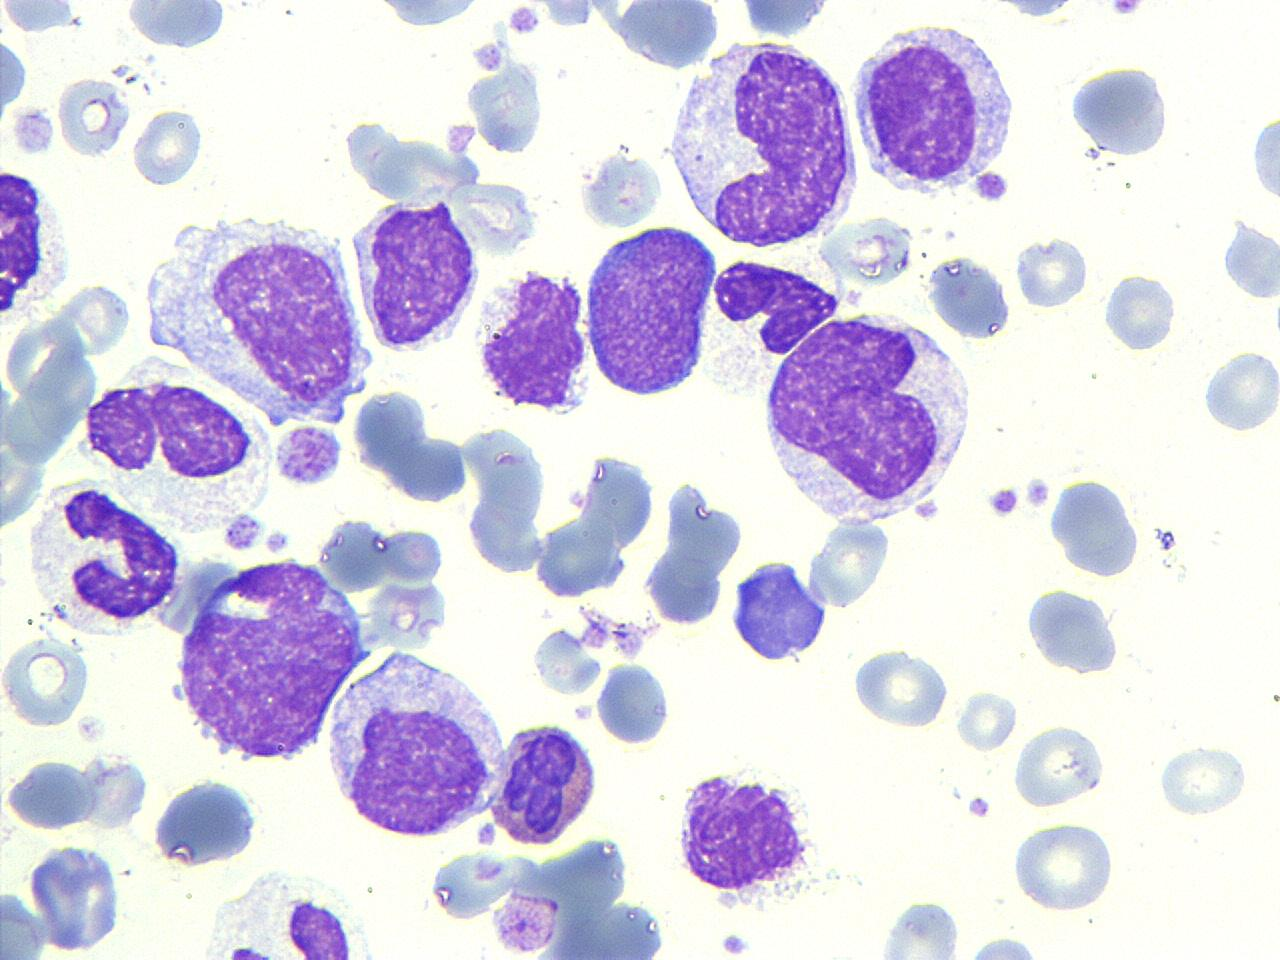Platelets: (1220, 219, 1280, 303), (954, 687, 1018, 752), (1248, 108, 1280, 206), (0, 41, 29, 134), (7, 105, 58, 154), (536, 0, 598, 28), (223, 510, 264, 552), (972, 168, 1011, 204), (984, 485, 1022, 518), (504, 4, 542, 37), (472, 39, 505, 72), (1024, 475, 1052, 510), (718, 930, 751, 958), (263, 528, 292, 556), (1106, 1, 1146, 19), (914, 497, 942, 522), (964, 793, 990, 819), (1156, 528, 1178, 552), (167, 681, 186, 705), (494, 28, 512, 48), (1083, 145, 1101, 162), (110, 65, 130, 79)
RBC: (351, 383, 470, 506), (1008, 818, 1118, 914), (849, 643, 953, 734), (802, 514, 894, 612), (0, 634, 92, 731), (1011, 720, 1107, 808), (1153, 741, 1249, 820), (819, 212, 916, 290), (3, 312, 84, 404), (430, 844, 516, 926), (578, 148, 664, 229), (129, 105, 206, 189), (54, 75, 129, 159), (78, 748, 150, 832), (490, 882, 564, 958), (271, 423, 349, 489), (953, 687, 1017, 754), (0, 886, 50, 958)
WBC: (143, 207, 372, 429), (761, 302, 979, 526), (664, 34, 860, 254), (174, 551, 370, 763), (320, 646, 508, 842), (82, 355, 267, 536), (443, 823, 673, 960), (847, 16, 1019, 199), (22, 476, 184, 636), (580, 219, 720, 400), (698, 244, 842, 400), (347, 192, 482, 356), (673, 765, 817, 915), (474, 264, 596, 420), (640, 474, 750, 632), (197, 864, 368, 960), (488, 717, 602, 848), (0, 164, 74, 333), (25, 838, 125, 956), (727, 556, 832, 666), (150, 772, 264, 870), (1009, 818, 1119, 916), (1067, 60, 1171, 160), (1048, 472, 1144, 580), (592, 2, 727, 73), (1024, 583, 1123, 678), (850, 644, 954, 734), (462, 50, 546, 160), (1012, 719, 1108, 810), (924, 253, 1014, 342), (0, 386, 51, 542), (2, 756, 96, 836), (1200, 347, 1280, 438), (578, 146, 662, 232), (594, 662, 672, 750), (1100, 270, 1178, 355), (77, 747, 151, 835), (130, 106, 206, 190), (1012, 233, 1090, 312), (873, 897, 965, 960), (530, 622, 604, 698), (490, 882, 563, 958), (340, 0, 508, 33), (124, 1, 230, 52), (1220, 218, 1280, 304), (272, 422, 346, 489), (732, 0, 844, 39), (1249, 107, 1279, 209), (0, 0, 78, 35), (0, 32, 28, 127), (960, 934, 1047, 960)
